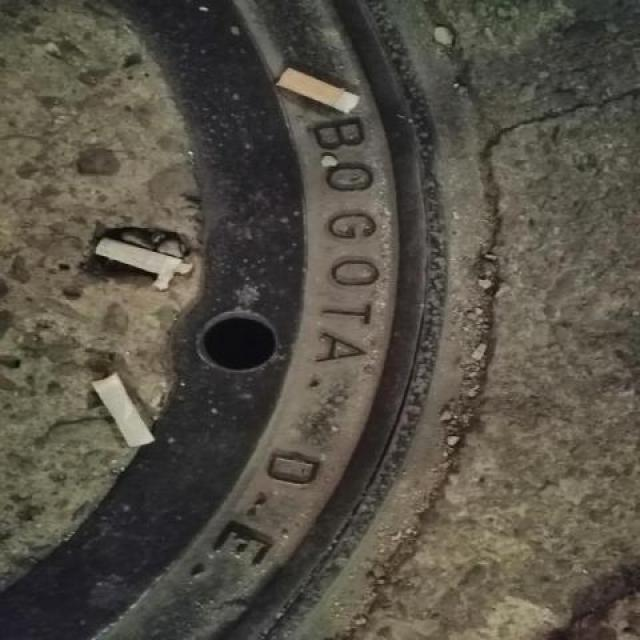non-organic waste: (87, 369, 162, 455), (271, 63, 366, 120), (90, 231, 190, 280)
